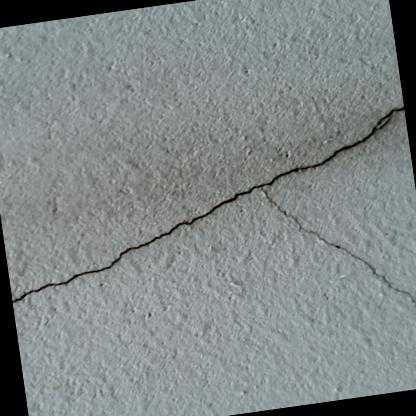crack: (11, 105, 416, 309)
